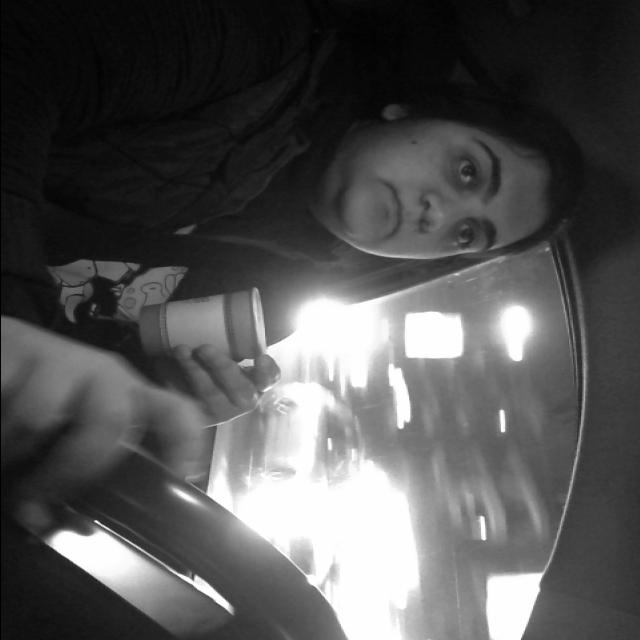drinking: (134, 284, 276, 376)
